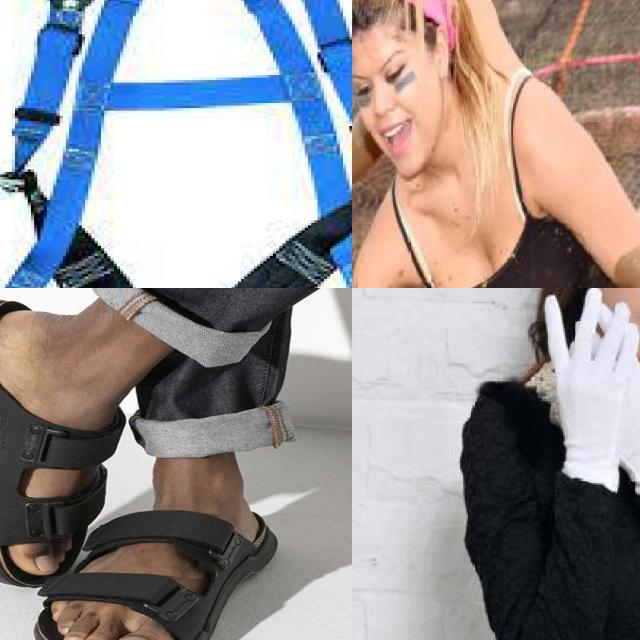Harness: (0, 0, 352, 288)
No_Glasses: (352, 58, 414, 108)
Sandals: (27, 467, 279, 640), (0, 289, 127, 583)
face_nomask: (352, 39, 447, 164)
hand_glove: (540, 288, 640, 469)
head_nohelmet: (352, 0, 456, 49)
person: (352, 0, 640, 288), (455, 288, 640, 640)
